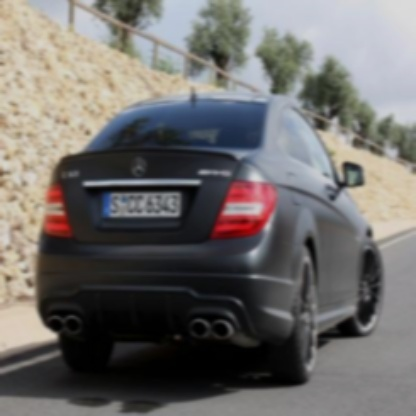Vehicle: (35, 86, 384, 386)
